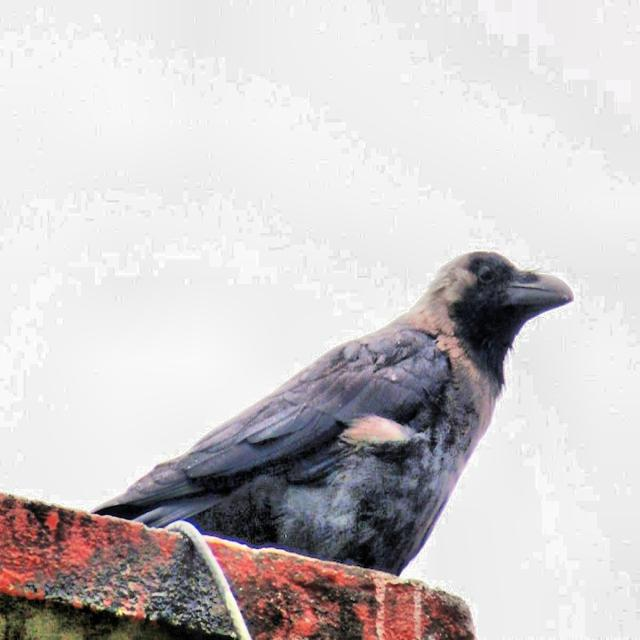crow: (92, 176, 577, 612)
